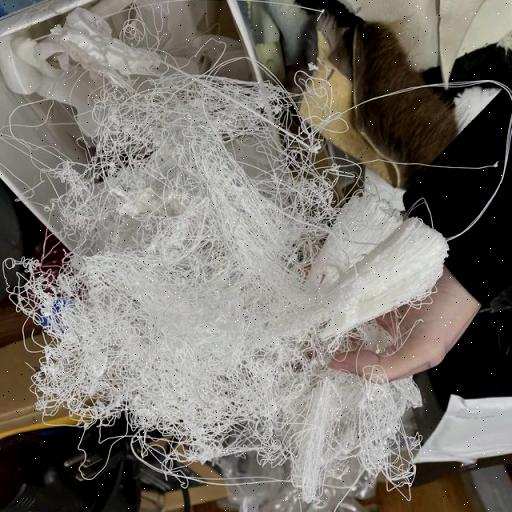spaghetti: (196, 358, 313, 464), (84, 254, 198, 350), (202, 268, 316, 354), (316, 380, 414, 474), (38, 324, 126, 424), (122, 357, 196, 459), (172, 73, 286, 137), (195, 184, 288, 258), (96, 82, 174, 170), (2, 256, 84, 326), (54, 162, 118, 238), (286, 76, 340, 154), (136, 180, 190, 250)
